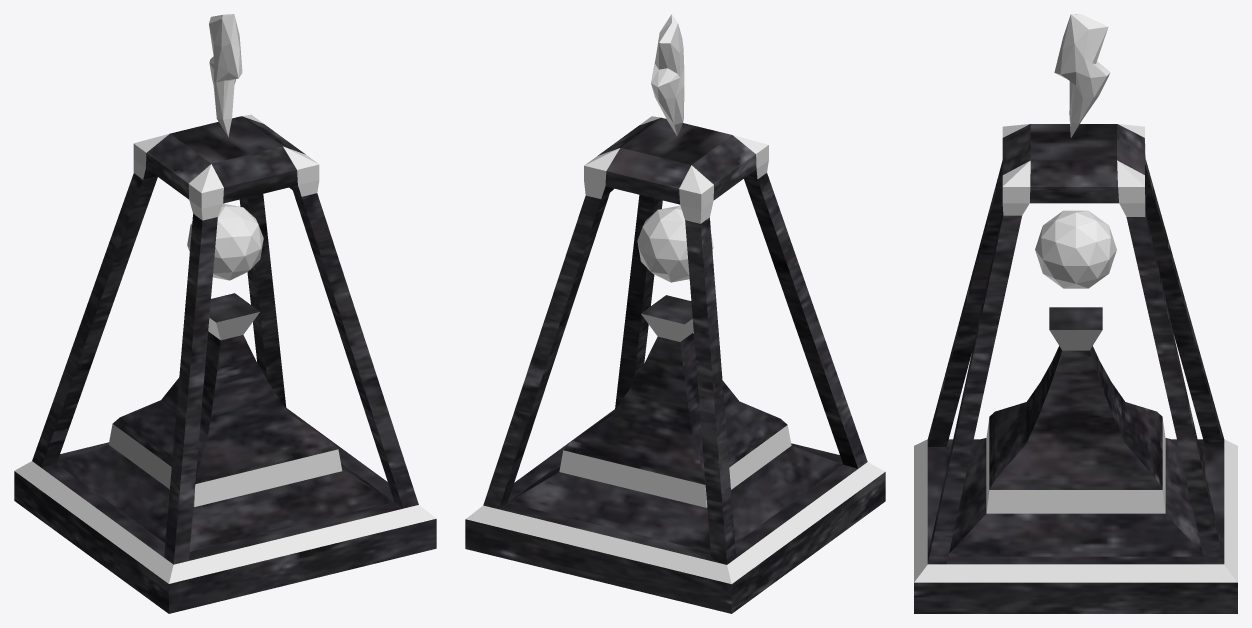
The model's file is elektrik kulesi.fbx.
The picture shows the model from 3 angles, left to right: view 1: azimuth 30°, elevation 25°; view 2: azimuth 150°, elevation 25°; view 3: azimuth 270°, elevation 25°; orthographic projection. The views are drawn at different scales.
Parts seen in each view (by area): view 1: Cube.001, Cube.002, Icosphere.001; view 2: Cube.001, Cube.002, Icosphere.001; view 3: Cube.001, Cube.002, Icosphere.001.
Part boxes in pixels (box(x1,y1,x2,y2)): Cube.001: box(14, 114, 436, 613); Cube.002: box(187, 203, 263, 280); Icosphere.001: box(209, 14, 242, 136); Cube.001: box(465, 116, 885, 613); Cube.002: box(637, 205, 713, 282); Icosphere.001: box(651, 14, 684, 136); Cube.001: box(914, 124, 1237, 613); Cube.002: box(1035, 210, 1116, 288); Icosphere.001: box(1054, 14, 1110, 137).
Bounding box in the file's own units: 200 × 365 × 200.
